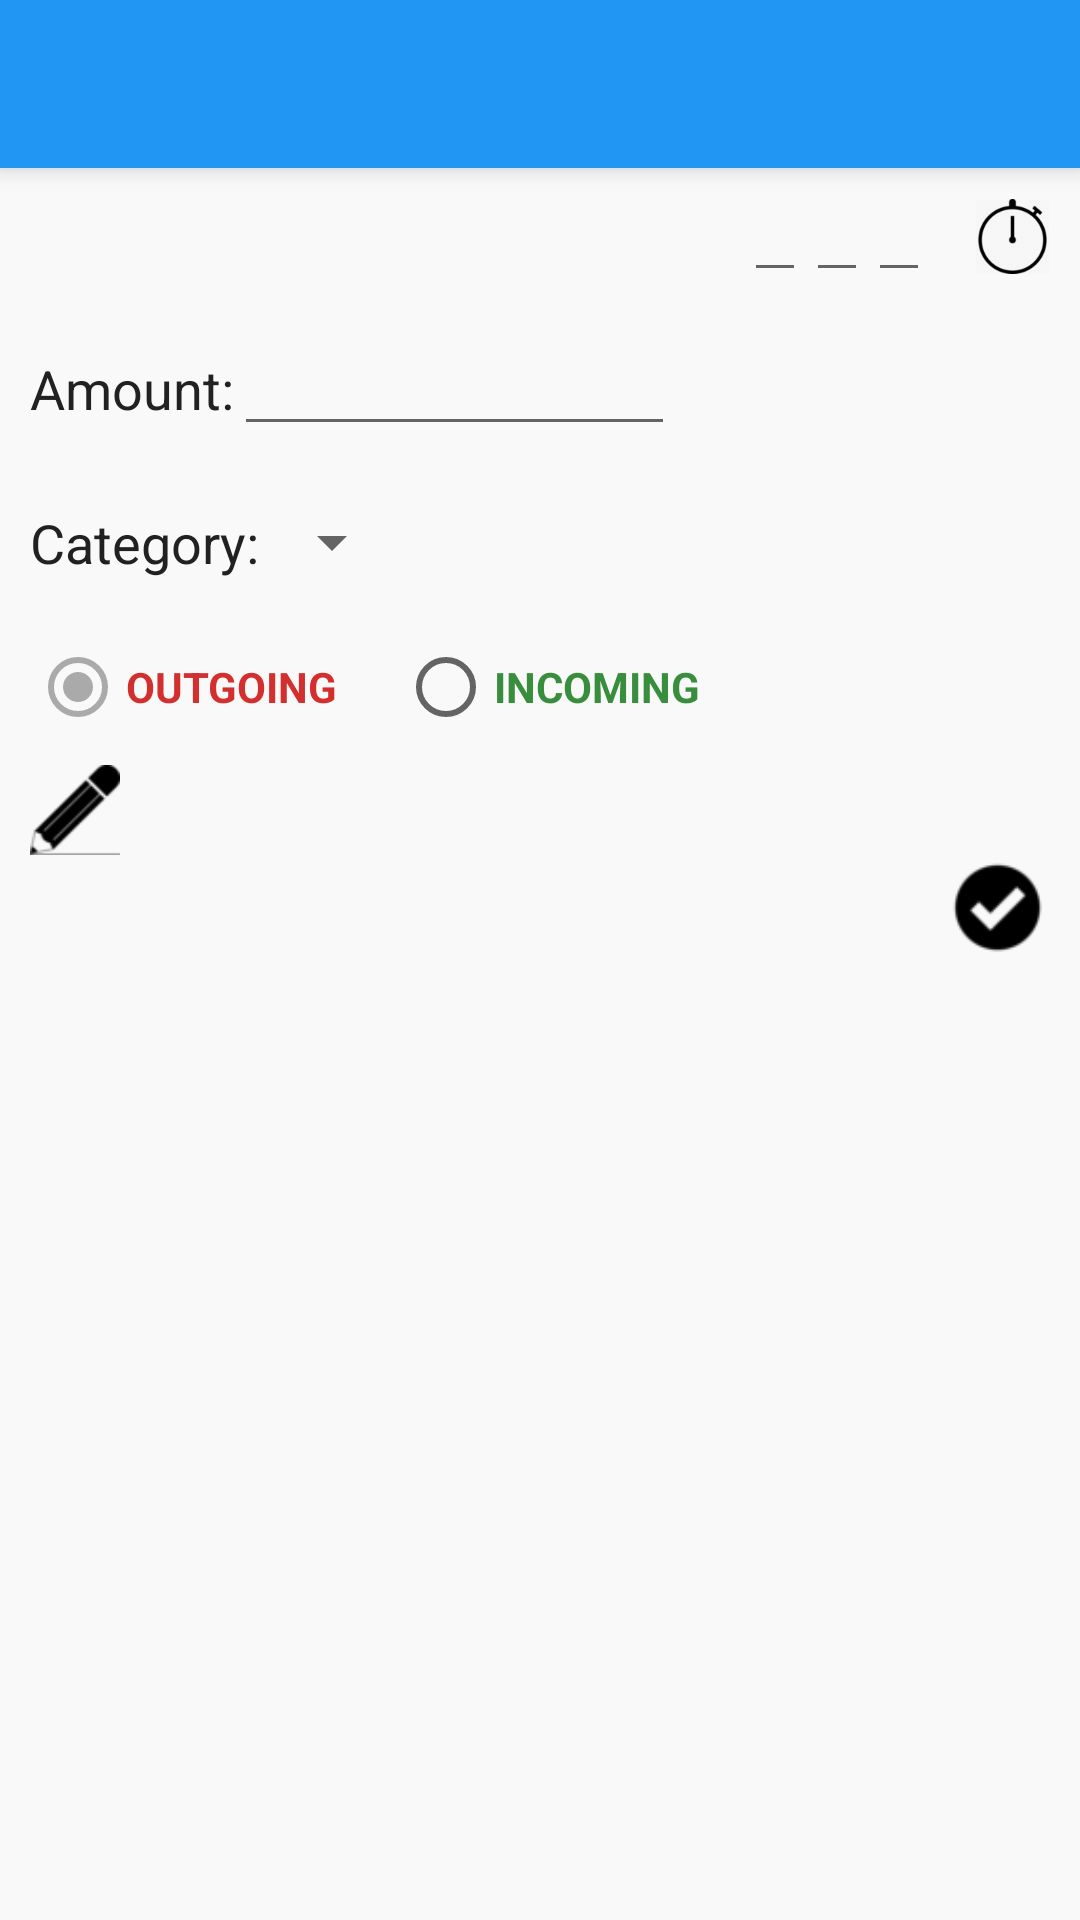

Screen size 1080w x 1920h. Icon name, then its box in pixels as (x1, y1, x2, y2):
clocked: (978, 199, 1047, 274)
description: (30, 765, 120, 855)
tick: (954, 864, 1042, 952)
